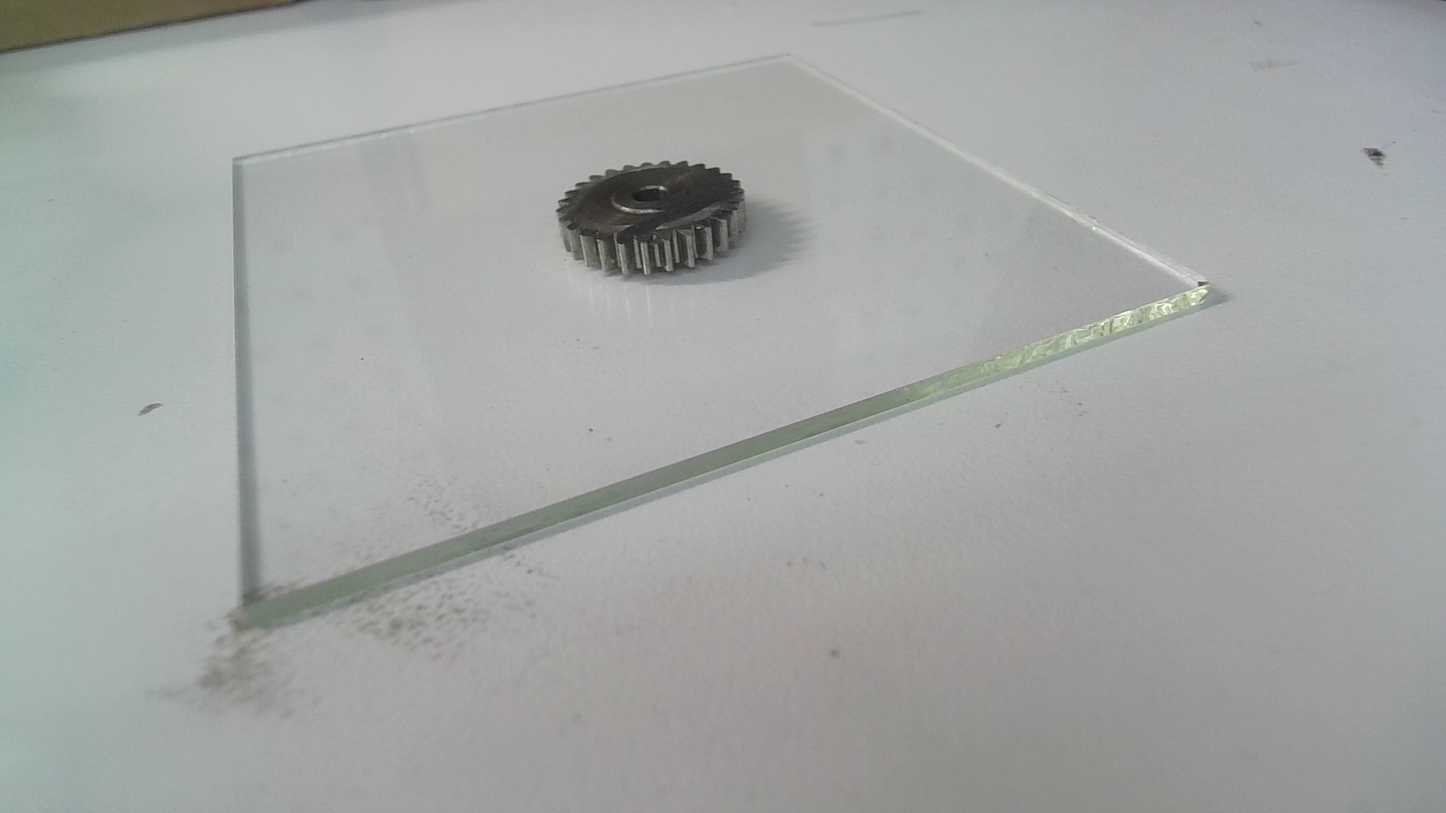gear: (552, 160, 751, 285)
